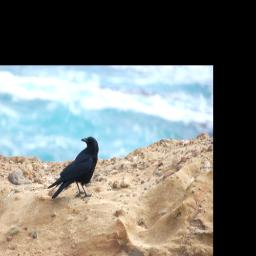Crow: (47, 133, 99, 201)
